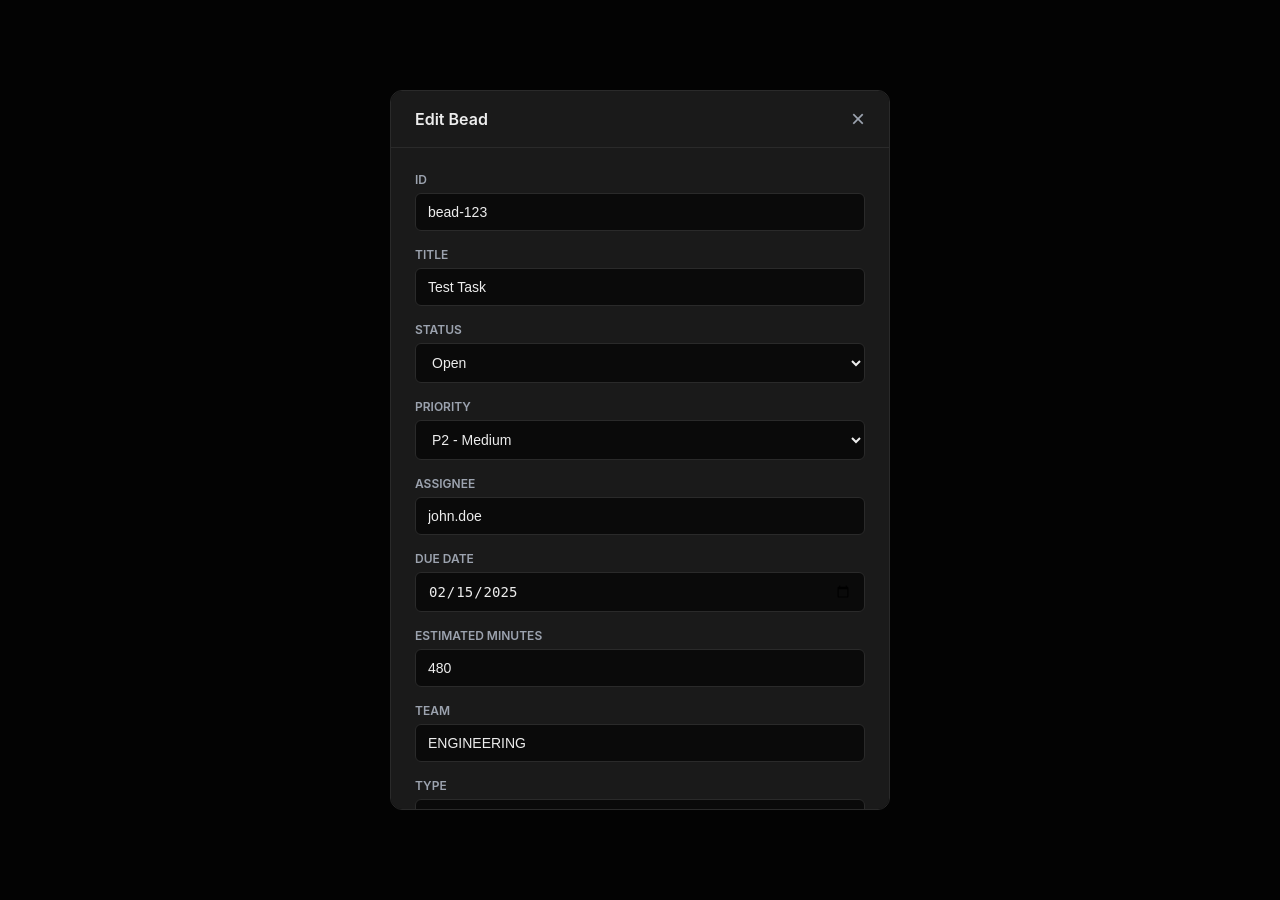
Test case: EditModal › Form submission › shows Saving... while save is in progress
Later steps or results of the test are not shown.
Replace the text in the field below "Title" with "New Title" at (640, 287), box [415,268,865,306]
(page scrolled)
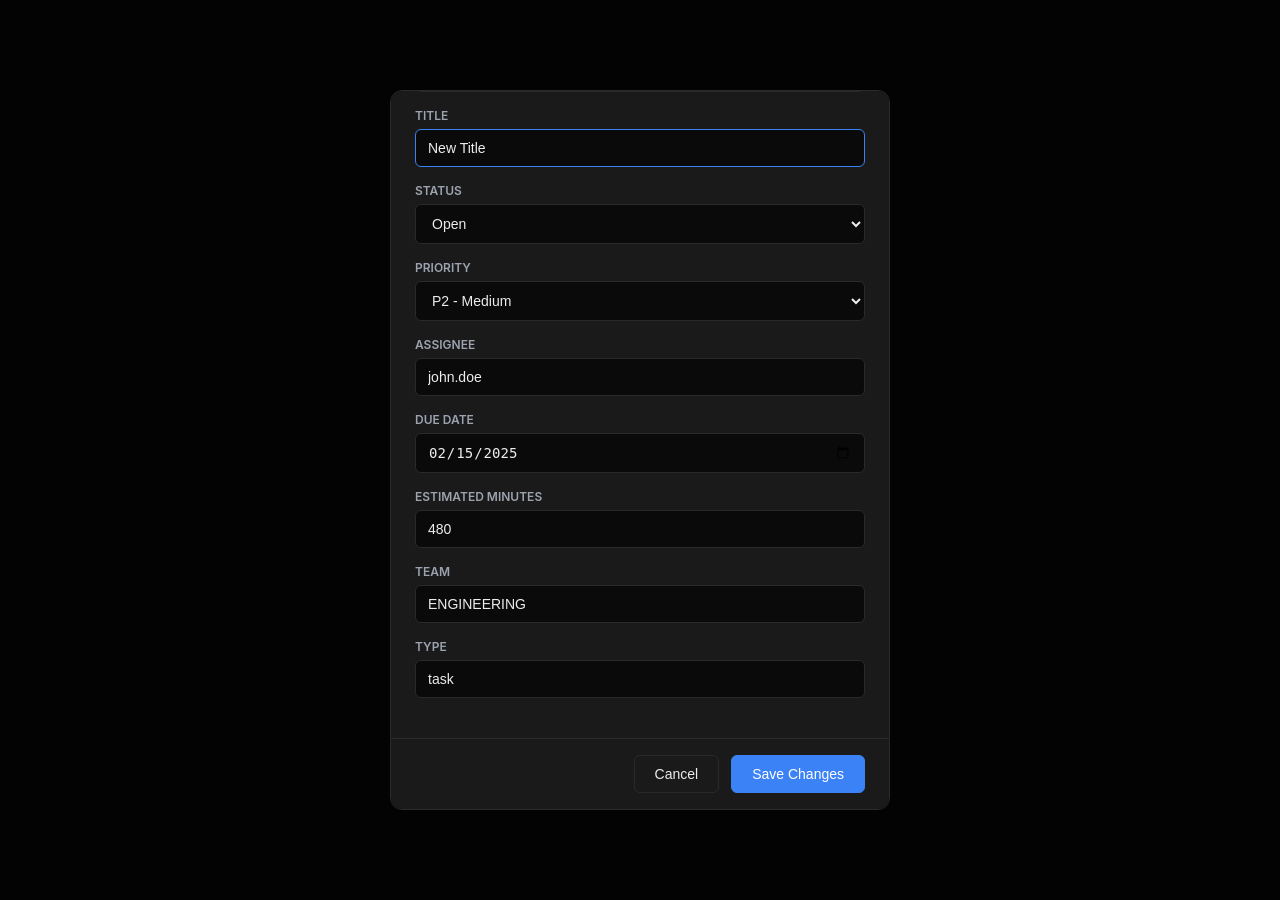
Click the button "Save Changes" at (798, 774), box [731,755,865,793]
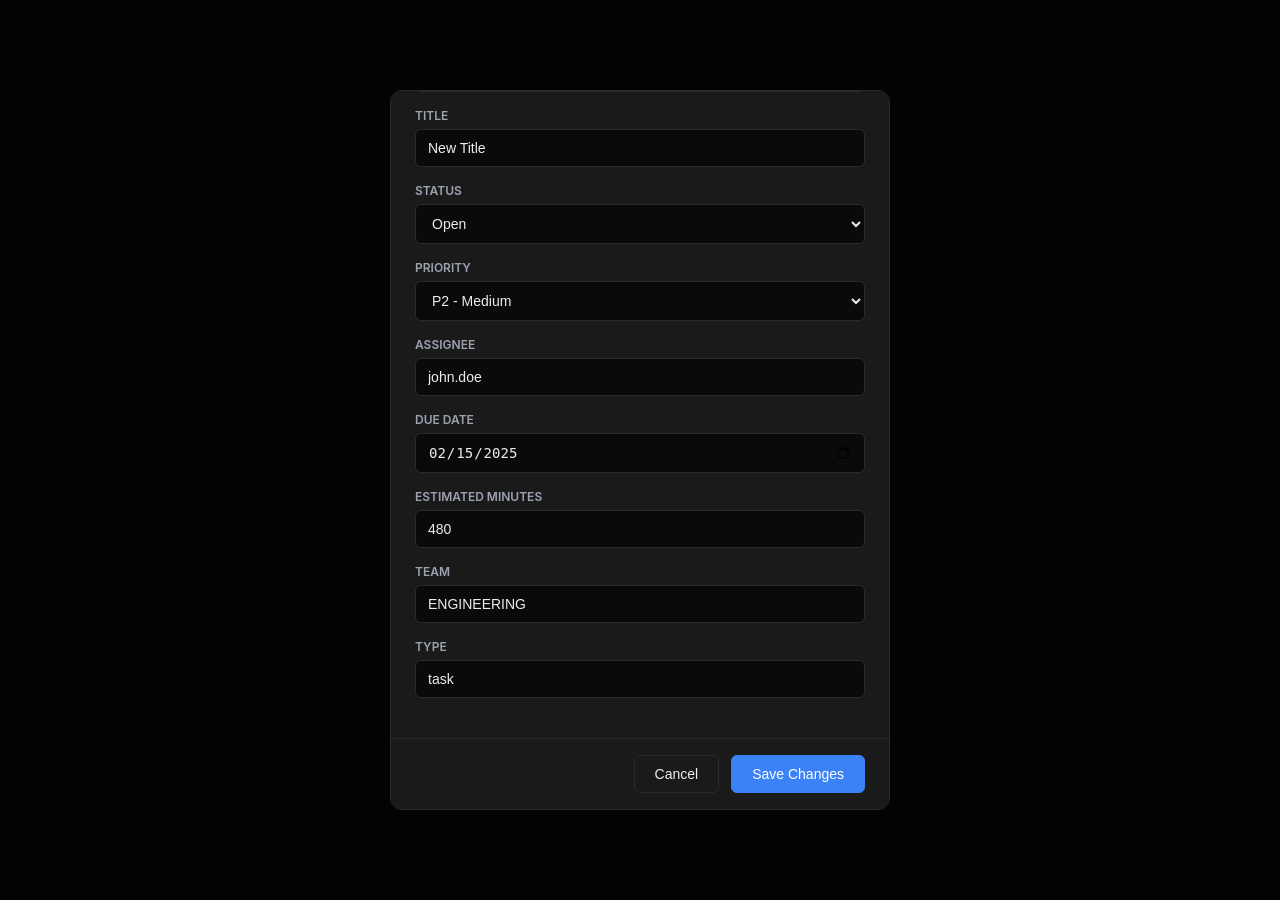
Expected: the button "Save Changes" is shown, [731,755,865,793]
